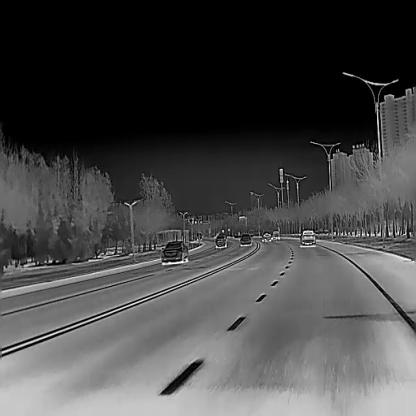car: (160, 240, 188, 263), (299, 229, 315, 245), (215, 235, 226, 248), (239, 234, 251, 245), (261, 231, 271, 241), (272, 231, 280, 239), (196, 232, 202, 240)
